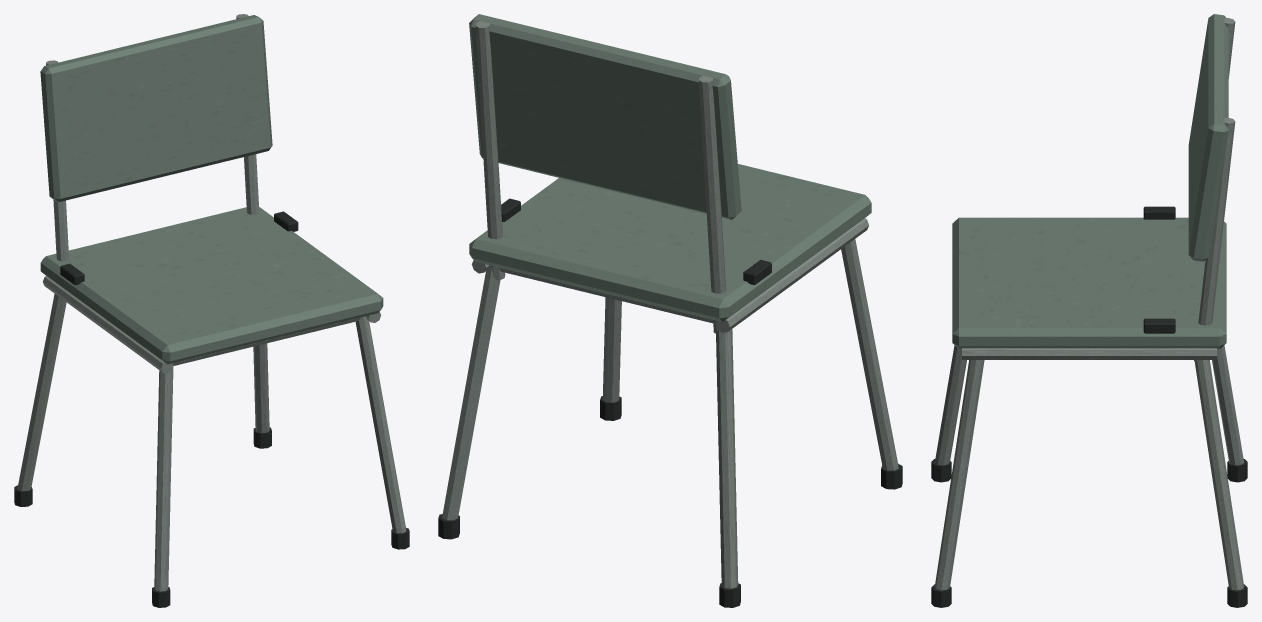
Rendered from stackable_chair_institutional.glb.
The picture shows the model from 3 angles, left to right: view 1: azimuth 30°, elevation 25°; view 2: azimuth 150°, elevation 25°; view 3: azimuth 270°, elevation 25°; orthographic projection. The views are drawn at different scales.
Visible parts, largest first — view 1: stackable_chair_institutional; view 2: stackable_chair_institutional; view 3: stackable_chair_institutional.
Part boxes in pixels (<box>): stackable_chair_institutional: <box>14,14,409,607</box>; stackable_chair_institutional: <box>438,14,902,607</box>; stackable_chair_institutional: <box>931,14,1247,607</box>.
Size of the model in its own units: 0.4979 by 0.817 by 0.4966.
Materials: 4 (4 with a texture image).
